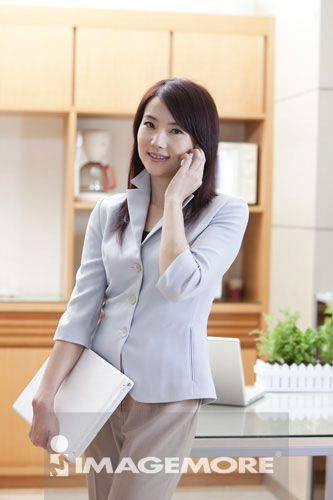talk: (137, 114, 205, 210)
